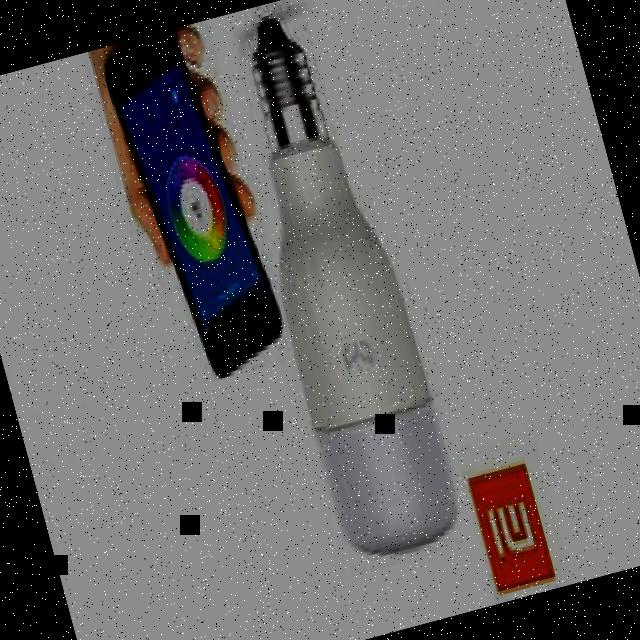light_bulb: (193, 0, 484, 586)
